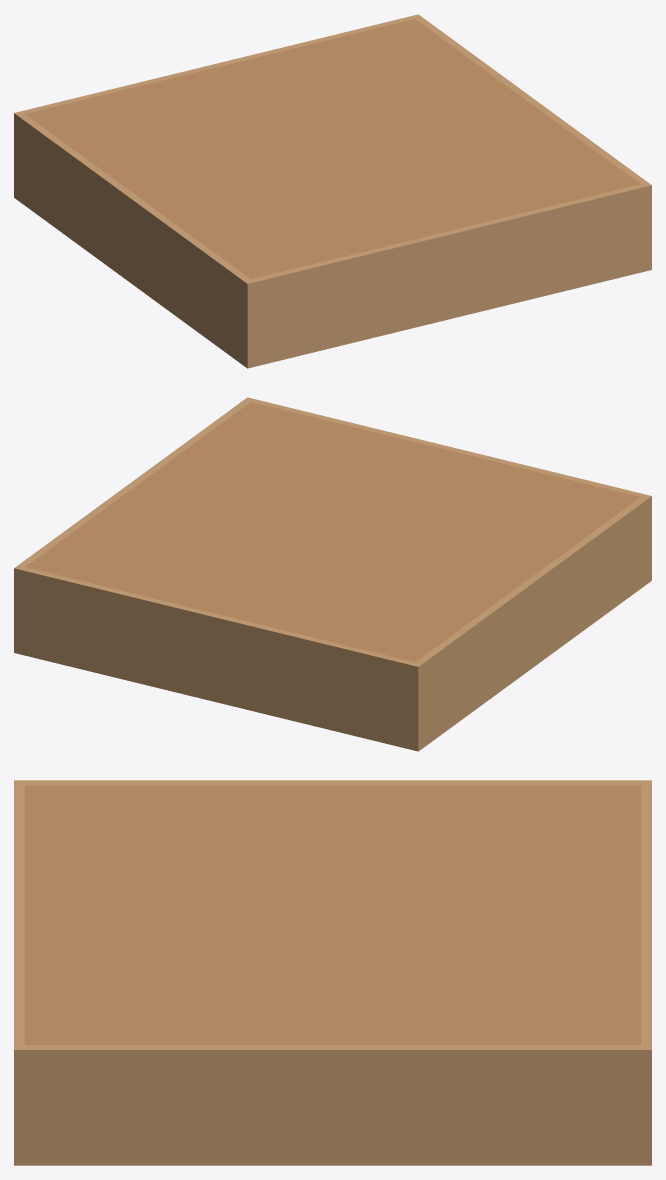
File: ConcrateSlabs_E_4_1.glb
The picture shows the model from 3 angles, top to bottom: view 1: azimuth 30°, elevation 25°; view 2: azimuth 150°, elevation 25°; view 3: azimuth 270°, elevation 25°; orthographic projection. The views are drawn at different scales.
Parts seen in each view (by area): view 1: ConcrateSlabs_E_4_1; view 2: ConcrateSlabs_E_4_1; view 3: ConcrateSlabs_E_4_1.
Boxes of the visible parts, box(x1,y1,x2,y2) form: ConcrateSlabs_E_4_1: box(14, 14, 651, 368); ConcrateSlabs_E_4_1: box(14, 397, 651, 751); ConcrateSlabs_E_4_1: box(14, 780, 651, 1165).
Bounding box in the file's own units: 2 × 0.4 × 2.
1 material, 1 textured.
